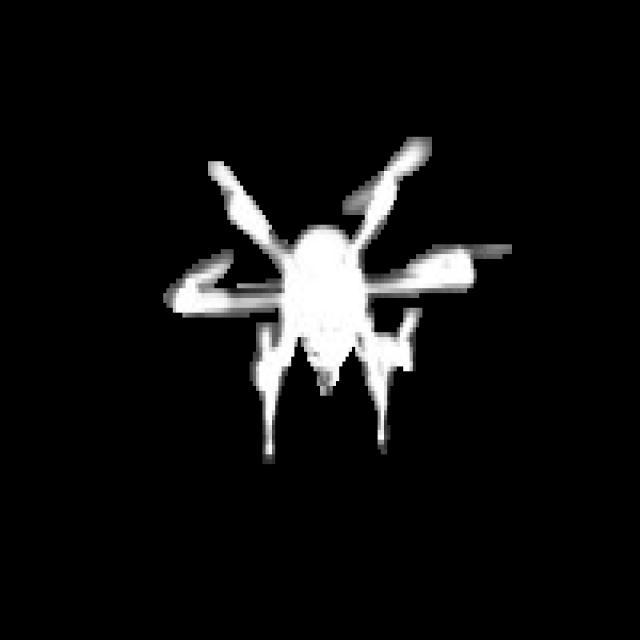drone: (158, 126, 515, 481)
